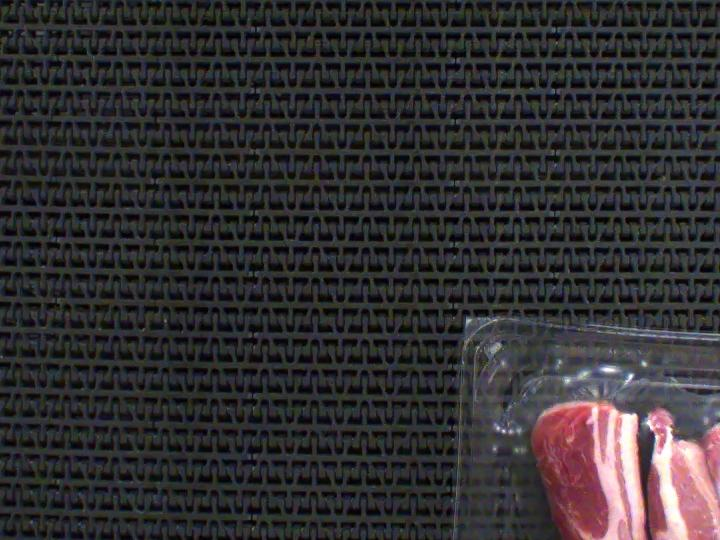unsealed: (470, 323, 720, 540)
